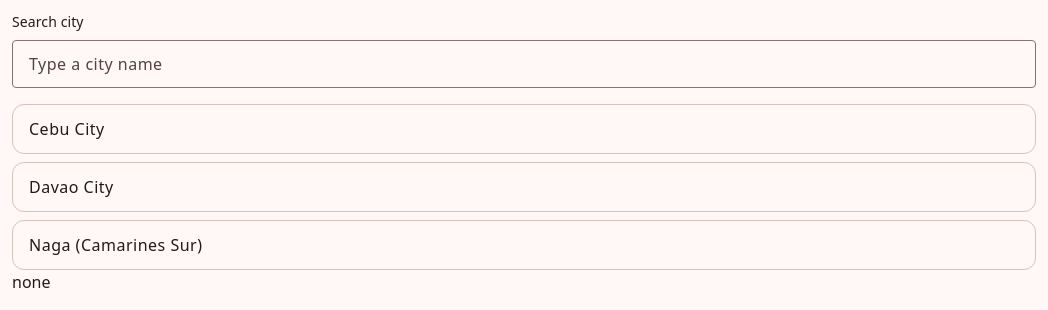
Scenario: CityPicker › reports the chosen city to its caller
Click the radio button labelled "Davao City" at (524, 187), box [12,162,1036,212]
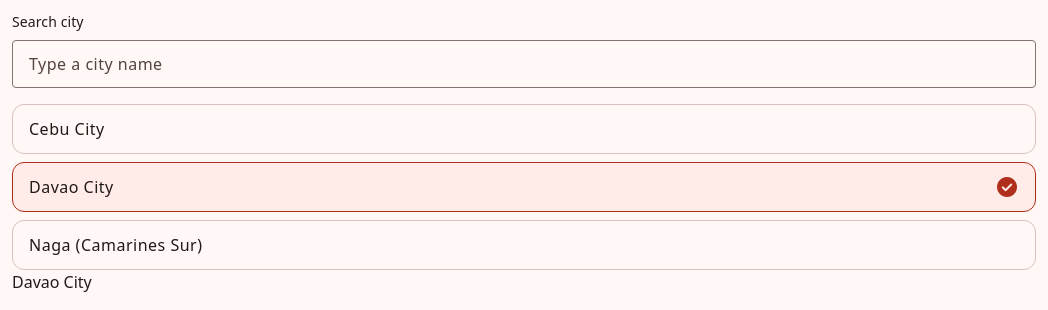
Expected: the text with test id "chosen" reads "Davao City", [12,271,92,293]
